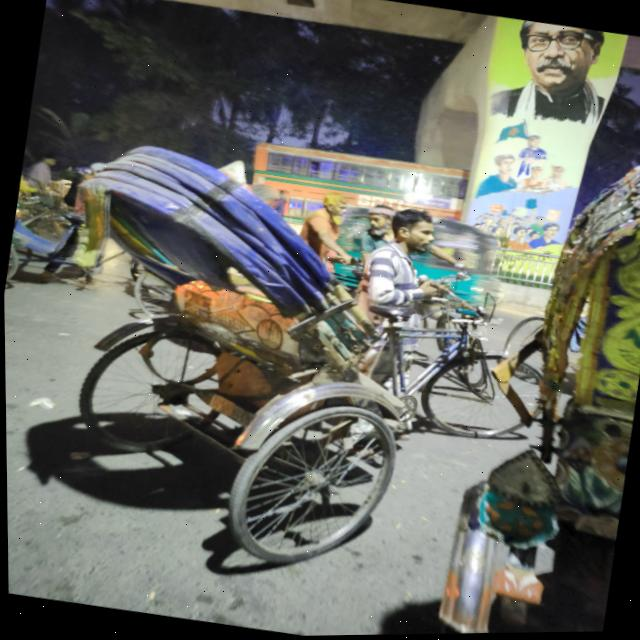rikshaw: (1, 91, 600, 640)
